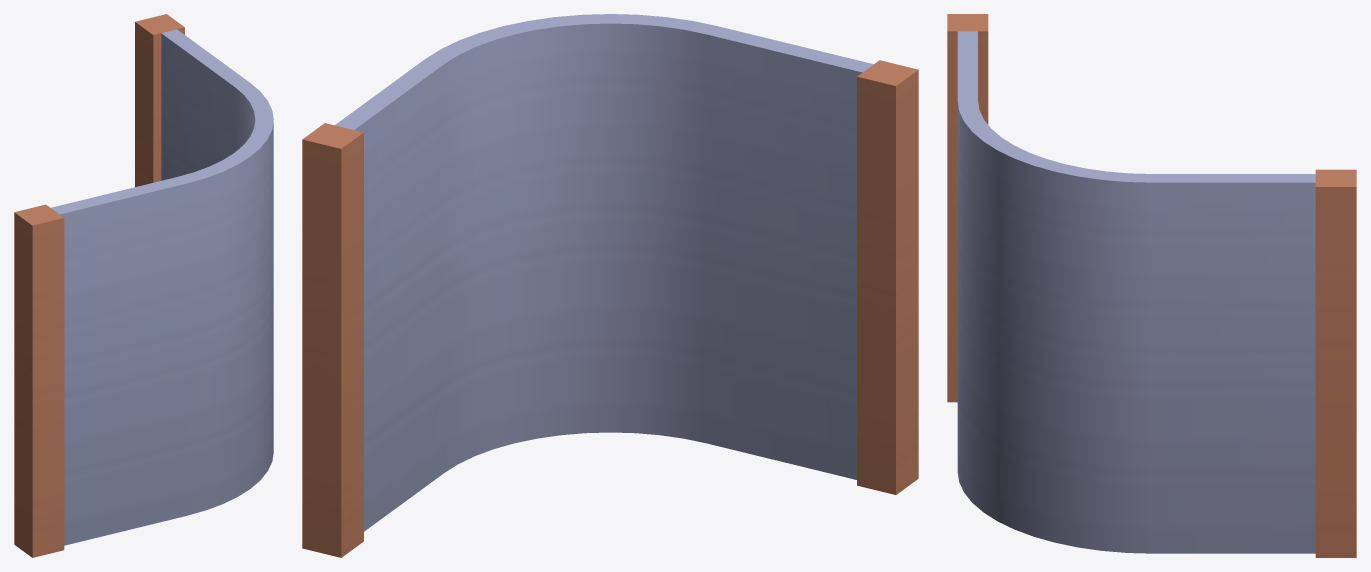
File: wall-rounded.fbx
3 views of the same model, side by side, from view 1: azimuth 30°, elevation 25°; view 2: azimuth 150°, elevation 25°; view 3: azimuth 270°, elevation 25° (orthographic). The views are drawn at different scales.
Parts seen in each view (by area): view 1: wall-rounded; view 2: wall-rounded; view 3: wall-rounded.
Part boxes in pixels (x1=…): wall-rounded: x1=14, y1=14, x2=273, y2=557; wall-rounded: x1=302, y1=14, x2=918, y2=557; wall-rounded: x1=947, y1=14, x2=1356, y2=557.
Bounding box in the file's own units: 100 × 100 × 100.
1 material, 1 textured.
